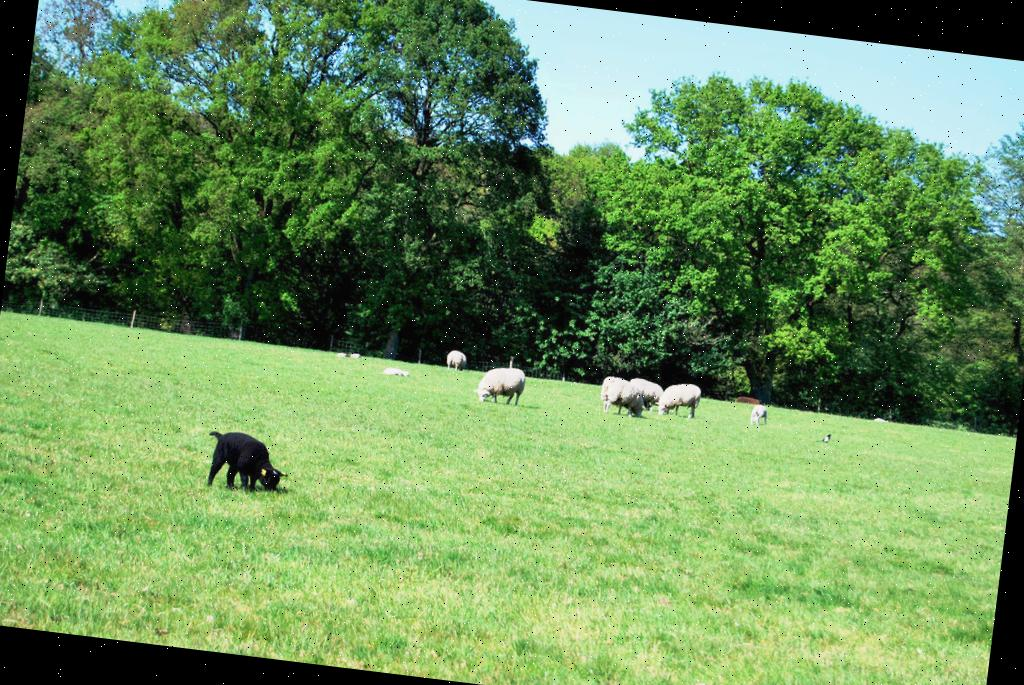Sheep: (196, 426, 292, 494), (472, 361, 531, 411), (598, 376, 646, 418), (658, 382, 706, 421), (624, 376, 666, 410), (444, 347, 470, 370)
